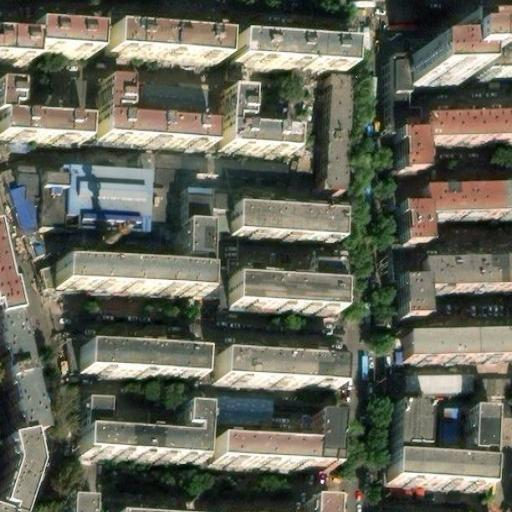building: (396, 244, 512, 311), (92, 77, 206, 142), (80, 404, 201, 456), (63, 168, 144, 235), (0, 91, 84, 151), (221, 86, 292, 150), (57, 268, 203, 298), (236, 204, 347, 239), (0, 313, 32, 433), (237, 45, 353, 77), (74, 343, 188, 375), (231, 282, 340, 315), (213, 353, 329, 384), (102, 36, 216, 67), (383, 451, 487, 483), (403, 326, 512, 356), (404, 41, 472, 85), (174, 180, 205, 272), (423, 180, 512, 211), (325, 96, 352, 198), (210, 439, 309, 466), (421, 112, 512, 141), (103, 22, 217, 42), (25, 31, 90, 60), (6, 166, 37, 225), (402, 374, 470, 399), (384, 407, 420, 452), (211, 396, 268, 424), (471, 40, 512, 78), (308, 413, 336, 467), (0, 440, 21, 512), (36, 175, 65, 226), (461, 410, 489, 457), (26, 14, 91, 34), (434, 405, 462, 450), (99, 500, 202, 512), (398, 202, 426, 245), (307, 251, 341, 285), (397, 126, 423, 170), (142, 178, 159, 236), (81, 403, 108, 433), (310, 494, 344, 512), (60, 505, 84, 512)
